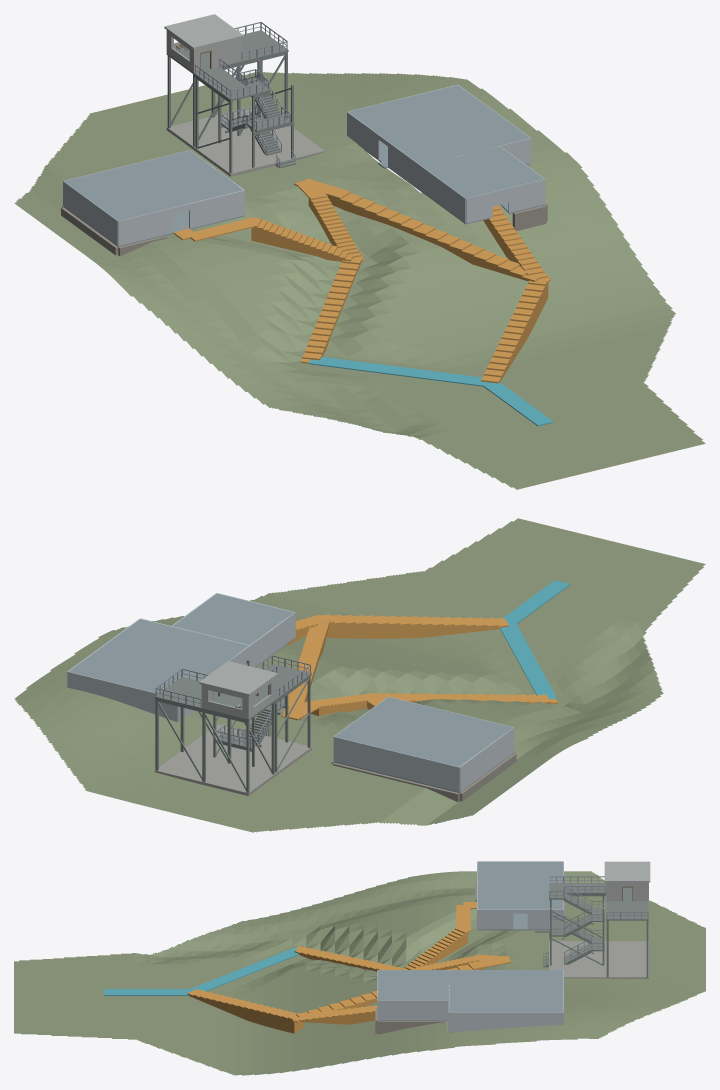
File: reconstructed.glb
3 renders of one model, top to bottom at view 1: azimuth 30°, elevation 25°; view 2: azimuth 150°, elevation 25°; view 3: azimuth 270°, elevation 25°, orthographic. The views are drawn at different scales.
Visible parts, largest first — view 1: Saved editor stair bench terrain WLD-04, Ceiling cap ruin, Ceiling cap hut, WLD-04 restart continuous grounded tower plinth region0, Ceiling cap store, Bayed shell Wall hut S, Opened stair shell Wall store S, L02 support 0, WLD-04 restart cab closed roof region0, Wall hut W, WLD-04 restart cab and observation deck region0, Wall store W (+4 smaller); view 2: Saved editor stair bench terrain WLD-04, Ceiling cap ruin, Ceiling cap hut, WLD-04 restart continuous grounded tower plinth region0, Ceiling cap store, Wall hut N, Wall ruin N, WLD-04 restart cab closed roof region0, WLD-04 restart cab and observation deck region0, Wall hut W, L02 support 0, Wall store W (+1 smaller); view 3: Saved editor stair bench terrain WLD-04, Ceiling cap ruin, Ceiling cap hut, WLD-04 restart continuous grounded tower plinth region0, Ceiling cap store, Wall ruin E, Wall store E, WLD-04 restart cab closed roof region0, L02 support 0, WLD-04 restart cab and observation deck region0, Flat route shell Wall hut E.001, WLD-04 restart west level access gallery region0 (+2 smaller).
Part boxes in pixels (x1,y1,x2,y2): Saved editor stair bench terrain WLD-04: (14, 72, 705, 489); Ceiling cap ruin: (348, 85, 529, 164); Ceiling cap hut: (64, 150, 242, 220); WLD-04 restart continuous grounded tower plinth region0: (166, 106, 324, 176); Ceiling cap store: (420, 146, 544, 198); Bayed shell Wall hut S: (118, 190, 244, 245); Opened stair shell Wall store S: (466, 179, 544, 223); L02 support 0: (308, 357, 489, 386); WLD-04 restart cab closed roof region0: (164, 14, 243, 49); Wall hut W: (63, 181, 118, 245); WLD-04 restart cab and observation deck region0: (166, 30, 288, 74); Wall store W: (419, 165, 465, 223); Saved editor stair bench terrain WLD-04: (14, 518, 705, 832); Ceiling cap ruin: (69, 619, 248, 693); Ceiling cap hut: (335, 697, 513, 766); WLD-04 restart continuous grounded tower plinth region0: (154, 724, 311, 795); Ceiling cap store: (172, 593, 294, 644); Wall hut N: (334, 736, 459, 791); Wall ruin N: (67, 671, 177, 721); WLD-04 restart cab closed roof region0: (199, 661, 278, 695); WLD-04 restart cab and observation deck region0: (154, 677, 275, 720); Wall hut W: (459, 727, 514, 791); L02 support 0: (500, 622, 557, 699); Wall store W: (250, 612, 295, 667); Saved editor stair bench terrain WLD-04: (14, 871, 705, 1075); Ceiling cap ruin: (449, 970, 563, 1012); Ceiling cap hut: (477, 861, 563, 909); WLD-04 restart continuous grounded tower plinth region0: (549, 941, 648, 978); Ceiling cap store: (378, 970, 449, 1000); Wall ruin E: (449, 1012, 563, 1031); Wall store E: (378, 1000, 448, 1019); WLD-04 restart cab closed roof region0: (604, 861, 650, 882); L02 support 0: (190, 948, 299, 991); WLD-04 restart cab and observation deck region0: (606, 887, 648, 920); Flat route shell Wall hut E.001: (477, 909, 513, 929); WLD-04 restart west level access gallery region0: (549, 883, 605, 894).
Size of the model in its own units: 59 by 19.35 by 97.
Materials: 30 (11 with a texture image).
